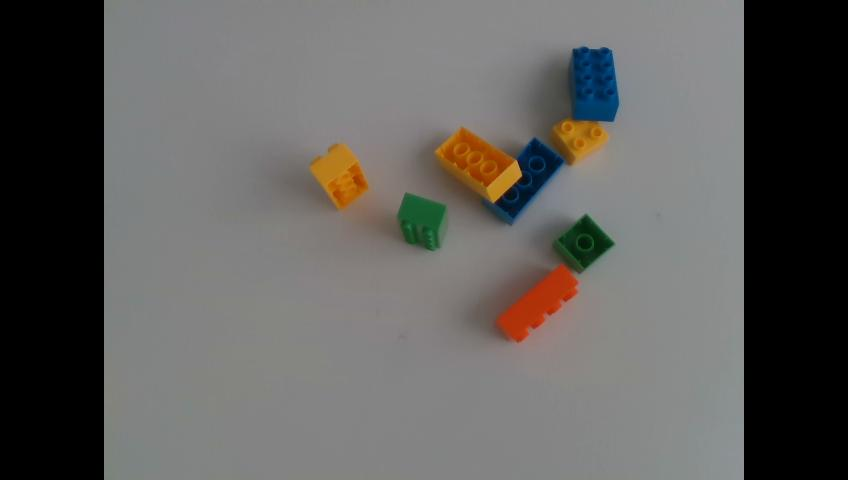2x2_green: (555, 212, 615, 270)
2x2_yellow: (550, 119, 610, 164)
4x2_blue: (483, 139, 566, 226), (571, 45, 619, 120)
4x2_green: (400, 192, 447, 249)
4x2_orange: (496, 264, 579, 341)
4x2_yellow: (436, 127, 524, 201), (311, 141, 370, 209)
